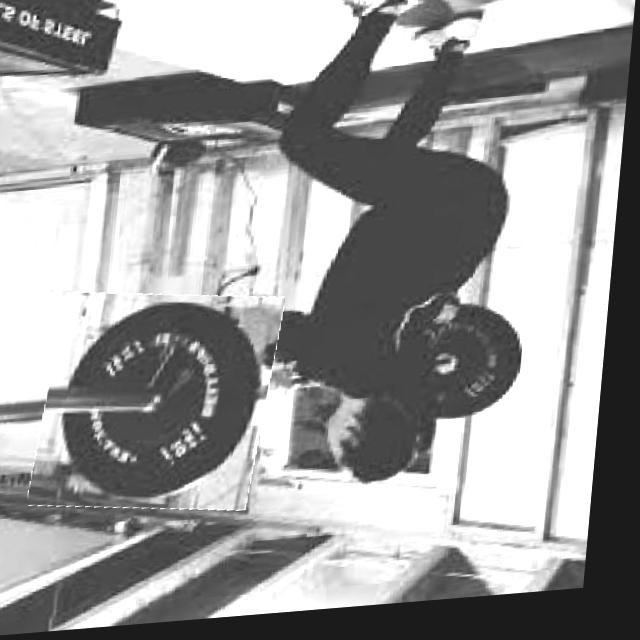barbell: (41, 287, 289, 525)
